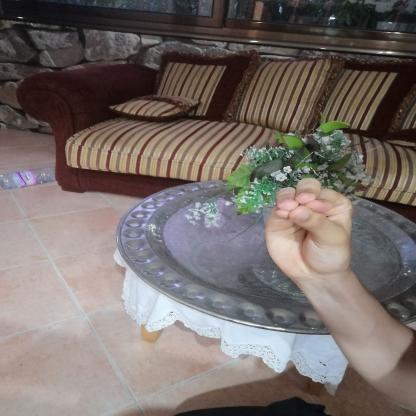HA: (248, 166, 372, 294)
